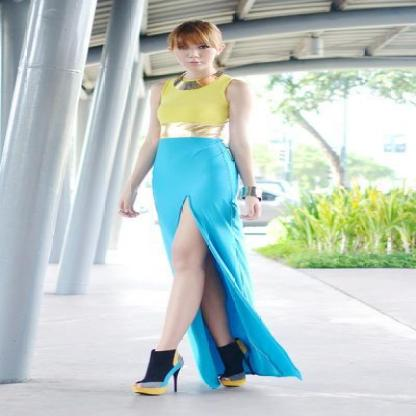shirt: (144, 75, 231, 137)
shoe: (142, 341, 255, 390)
skirt: (151, 138, 288, 388)
